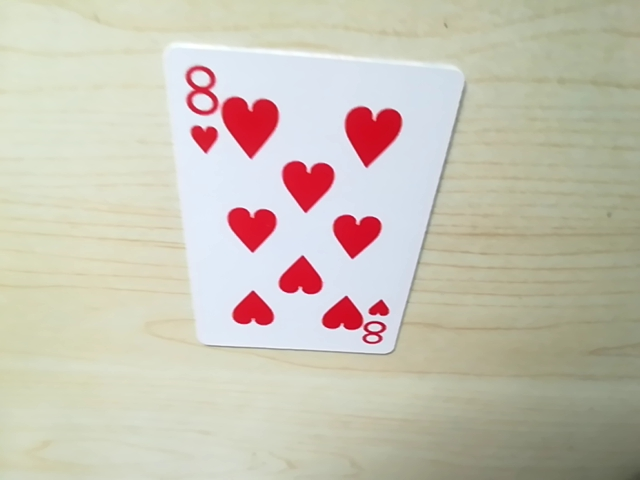hx 8: (177, 57, 225, 129), (350, 311, 395, 351)
